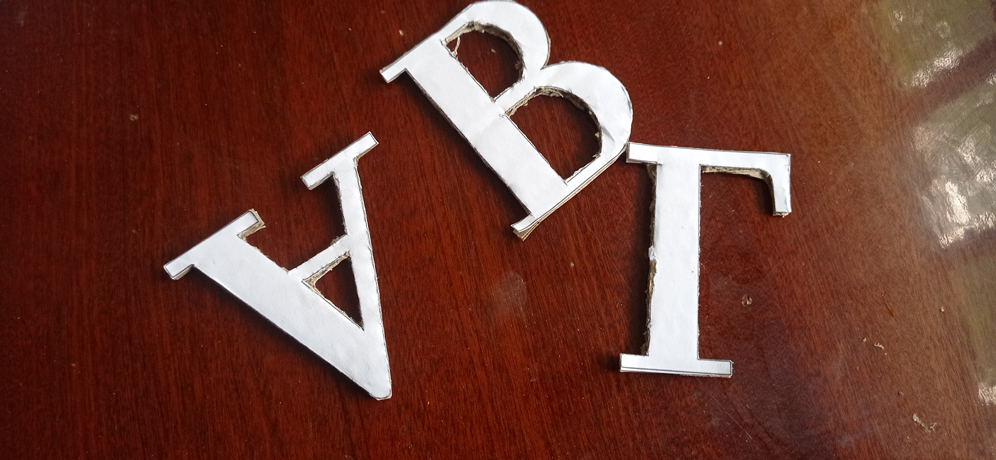a: (164, 129, 394, 402)
g: (617, 140, 794, 380)
v: (378, 0, 634, 243)
